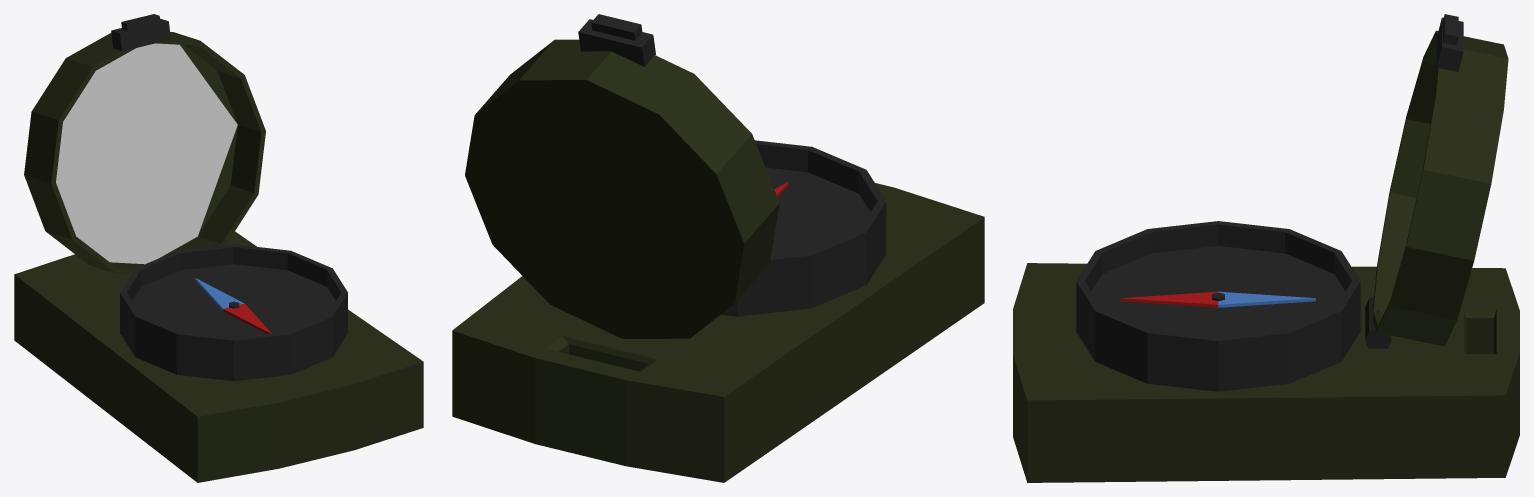
The model's file is Compass_Opened_vc.fbx.
The picture shows the model from 3 angles, left to right: view 1: azimuth 30°, elevation 25°; view 2: azimuth 150°, elevation 25°; view 3: azimuth 270°, elevation 25°; orthographic projection. The views are drawn at different scales.
Visible parts, largest first — view 1: Compass_Opened_vc; view 2: Compass_Opened_vc; view 3: Compass_Opened_vc.
Boxes of the visible parts, <box> form: Compass_Opened_vc: <box>14,14,423,482</box>; Compass_Opened_vc: <box>452,14,984,482</box>; Compass_Opened_vc: <box>1013,14,1519,482</box>.
Size of the model in its own units: 8.04 by 10.65 by 12.53.
